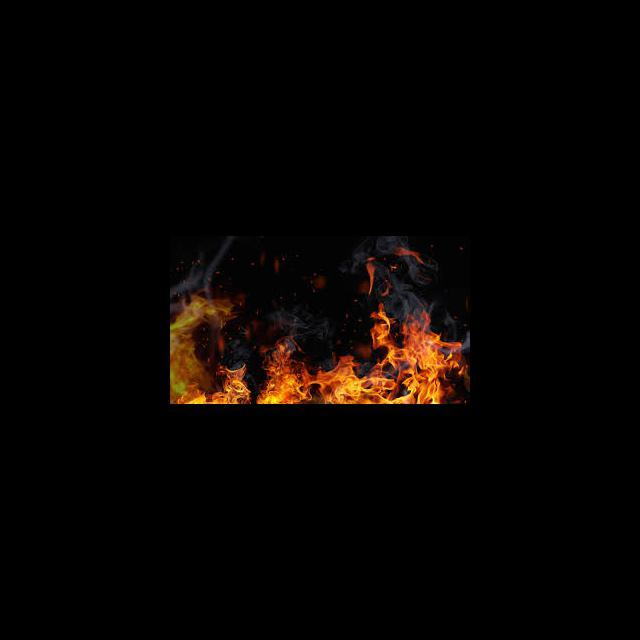Fire: (170, 279, 469, 403)
